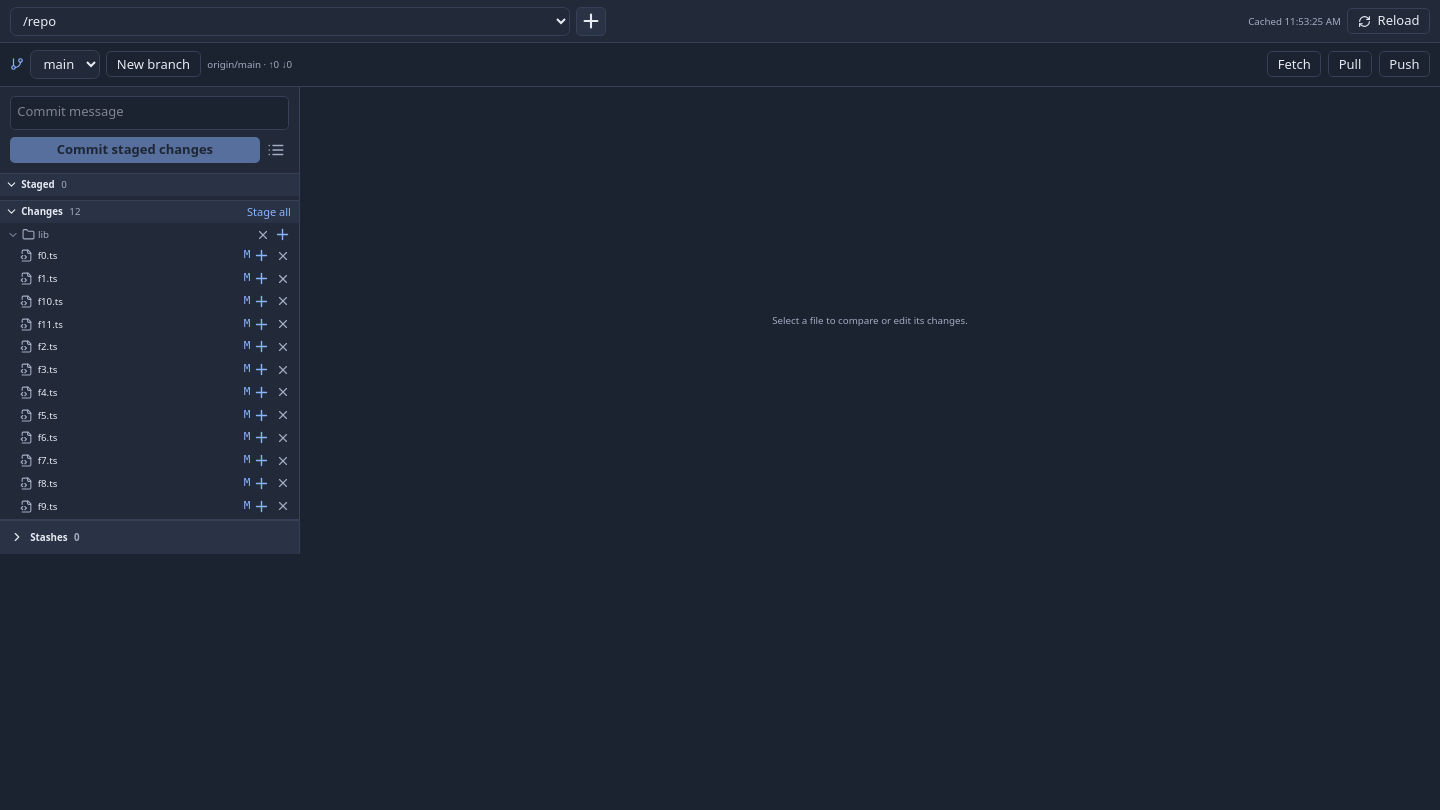
Test: folder discard of many files needs the folder name typed
Click the button named "Discard folder lib" at (263, 235), box [254,225,273,244]
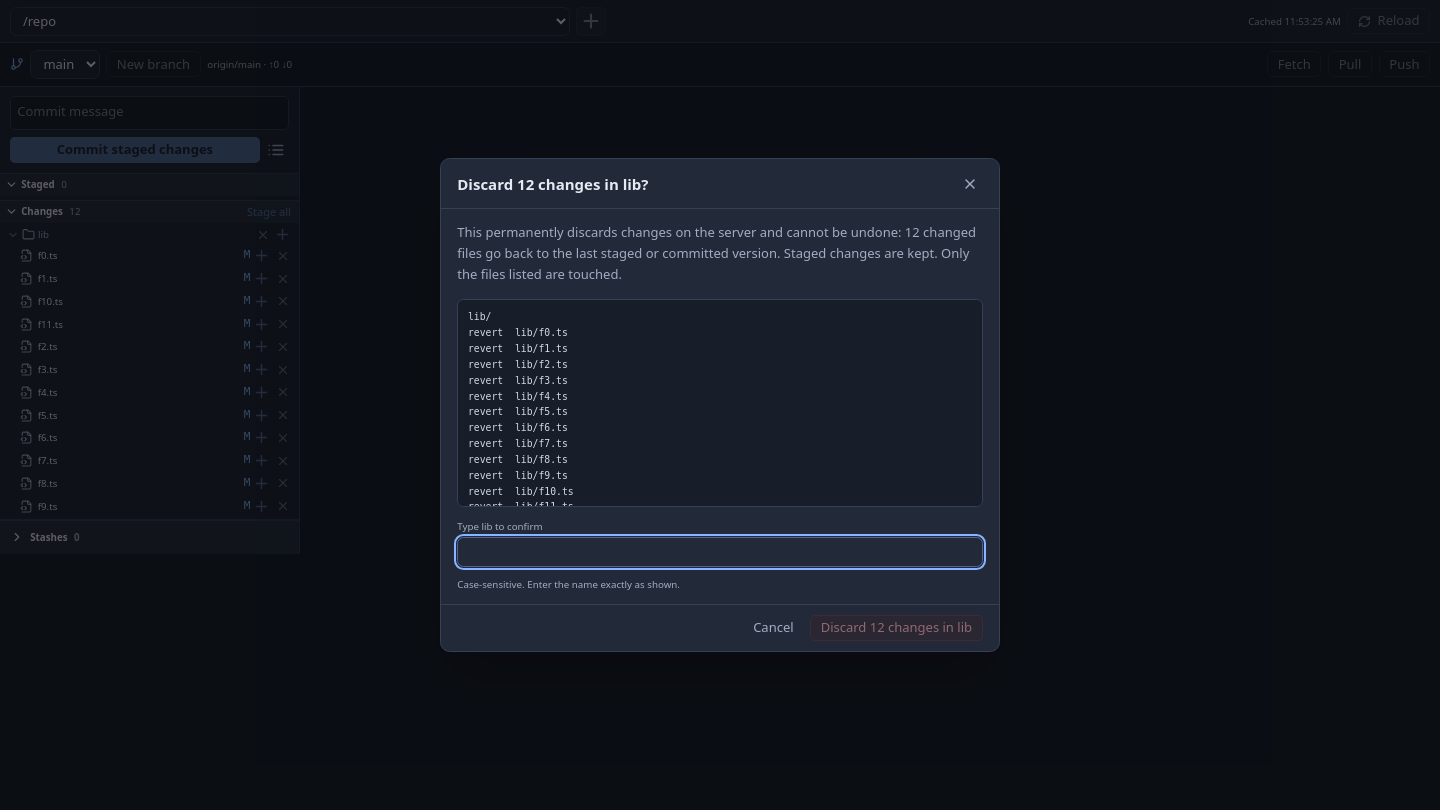
Expected: the button "Discard 12 changes in lib" is disabled, [810,615,983,641]
